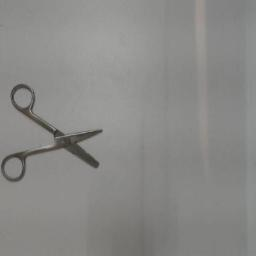Dressing Scissors: (0, 78, 112, 186)
